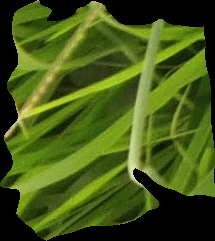grass: (1, 1, 213, 239)
